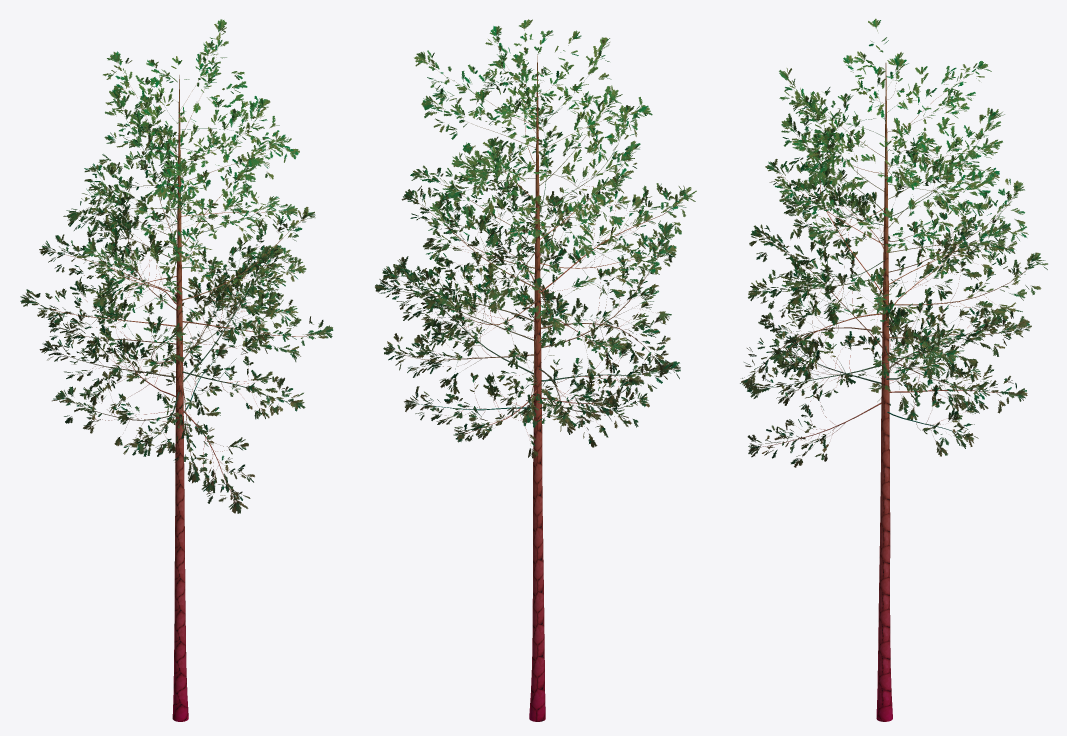
The model's file is asset.glb.
3 renders of one model, left to right at view 1: azimuth 30°, elevation 25°; view 2: azimuth 150°, elevation 25°; view 3: azimuth 270°, elevation 25°, orthographic. The views are drawn at different scales.
Parts seen in each view (by area): view 1: ponderosa_pine_LOD0; view 2: ponderosa_pine_LOD0; view 3: ponderosa_pine_LOD0.
Boxes of the visible parts, x1,y1,x2,y2 form: ponderosa_pine_LOD0: (20,19,333,721); ponderosa_pine_LOD0: (375,19,696,721); ponderosa_pine_LOD0: (740,18,1047,721).
Size of the model in its own units: 14.36 by 34.6 by 14.61.
2 materials, 2 textured.
